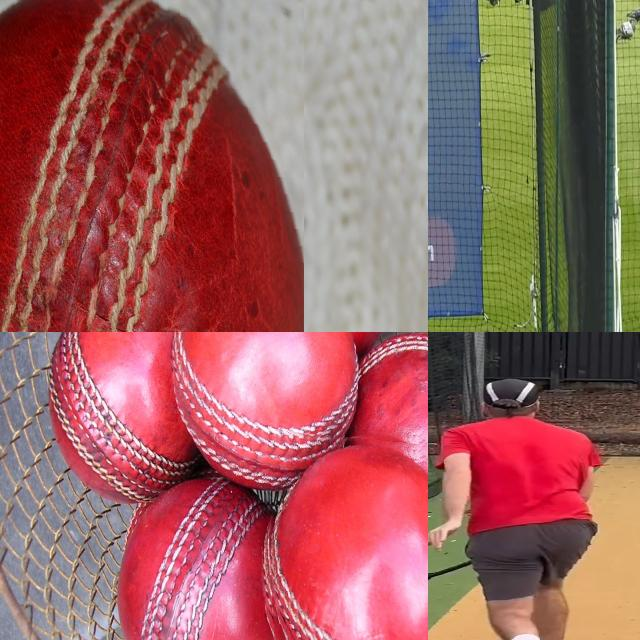Cricket ball: (0, 0, 303, 332), (262, 429, 428, 640), (169, 332, 365, 492), (114, 467, 276, 640)
